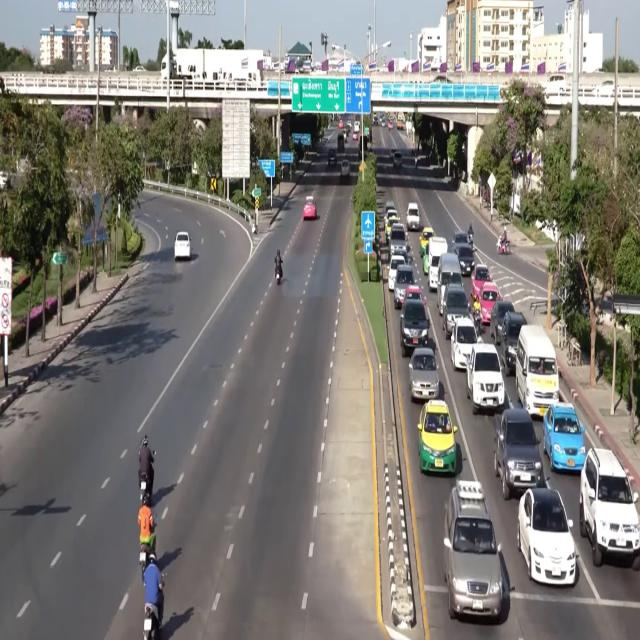car: (444, 480, 503, 623), (579, 448, 639, 570), (517, 488, 577, 585), (494, 408, 545, 500), (543, 403, 585, 471), (418, 400, 457, 473), (466, 343, 504, 414), (499, 312, 526, 375), (400, 301, 429, 357), (409, 348, 439, 400), (442, 283, 469, 339), (451, 316, 478, 369), (490, 300, 514, 345), (478, 281, 501, 324), (394, 264, 415, 309), (454, 244, 475, 276), (471, 264, 491, 297), (388, 255, 406, 291), (388, 224, 408, 255), (174, 232, 191, 260), (420, 227, 434, 256), (385, 209, 399, 238), (406, 202, 420, 230), (405, 285, 425, 303), (451, 232, 468, 251), (303, 196, 317, 219), (394, 250, 412, 264), (341, 160, 350, 181), (385, 200, 396, 215), (0, 171, 8, 190), (328, 149, 336, 166), (393, 152, 402, 167), (133, 65, 146, 72), (354, 120, 360, 133), (347, 120, 353, 132), (372, 114, 378, 125), (390, 149, 396, 159), (352, 132, 358, 141), (338, 120, 343, 129), (388, 121, 393, 130)
scooty: (144, 603, 161, 639), (497, 239, 510, 255), (276, 267, 282, 285)
truck: (161, 48, 263, 81), (397, 112, 405, 131), (337, 132, 344, 153)
